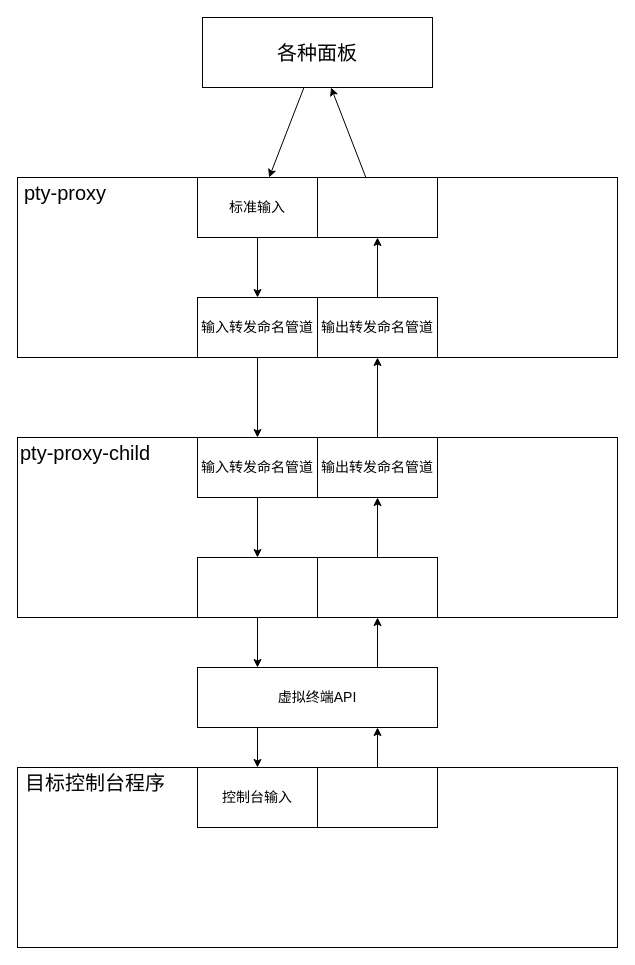
The diagram is 635 pixels wide and 965 high, and some of its shapes have lost their labels. Here are the shapes that lost their labels. From the top down, the centre of each, then its label:
the point at 377,207: 标准输出
the point at 257,587: 虚拟终端输入接收
the point at 377,587: 虚拟终端输出
the point at 377,797: 控制台输出
